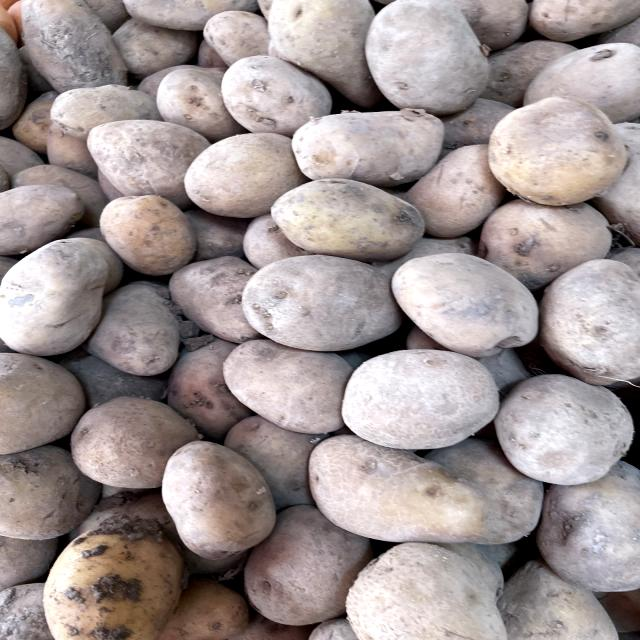potato: (301, 433, 496, 562), (233, 245, 420, 348), (495, 358, 636, 486), (337, 344, 499, 454), (159, 437, 281, 566), (282, 103, 454, 188), (94, 188, 202, 282)
